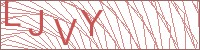J: (28, 9, 44, 36)
L: (3, 1, 22, 28)
V: (54, 18, 78, 46)
Y: (80, 9, 103, 38)
